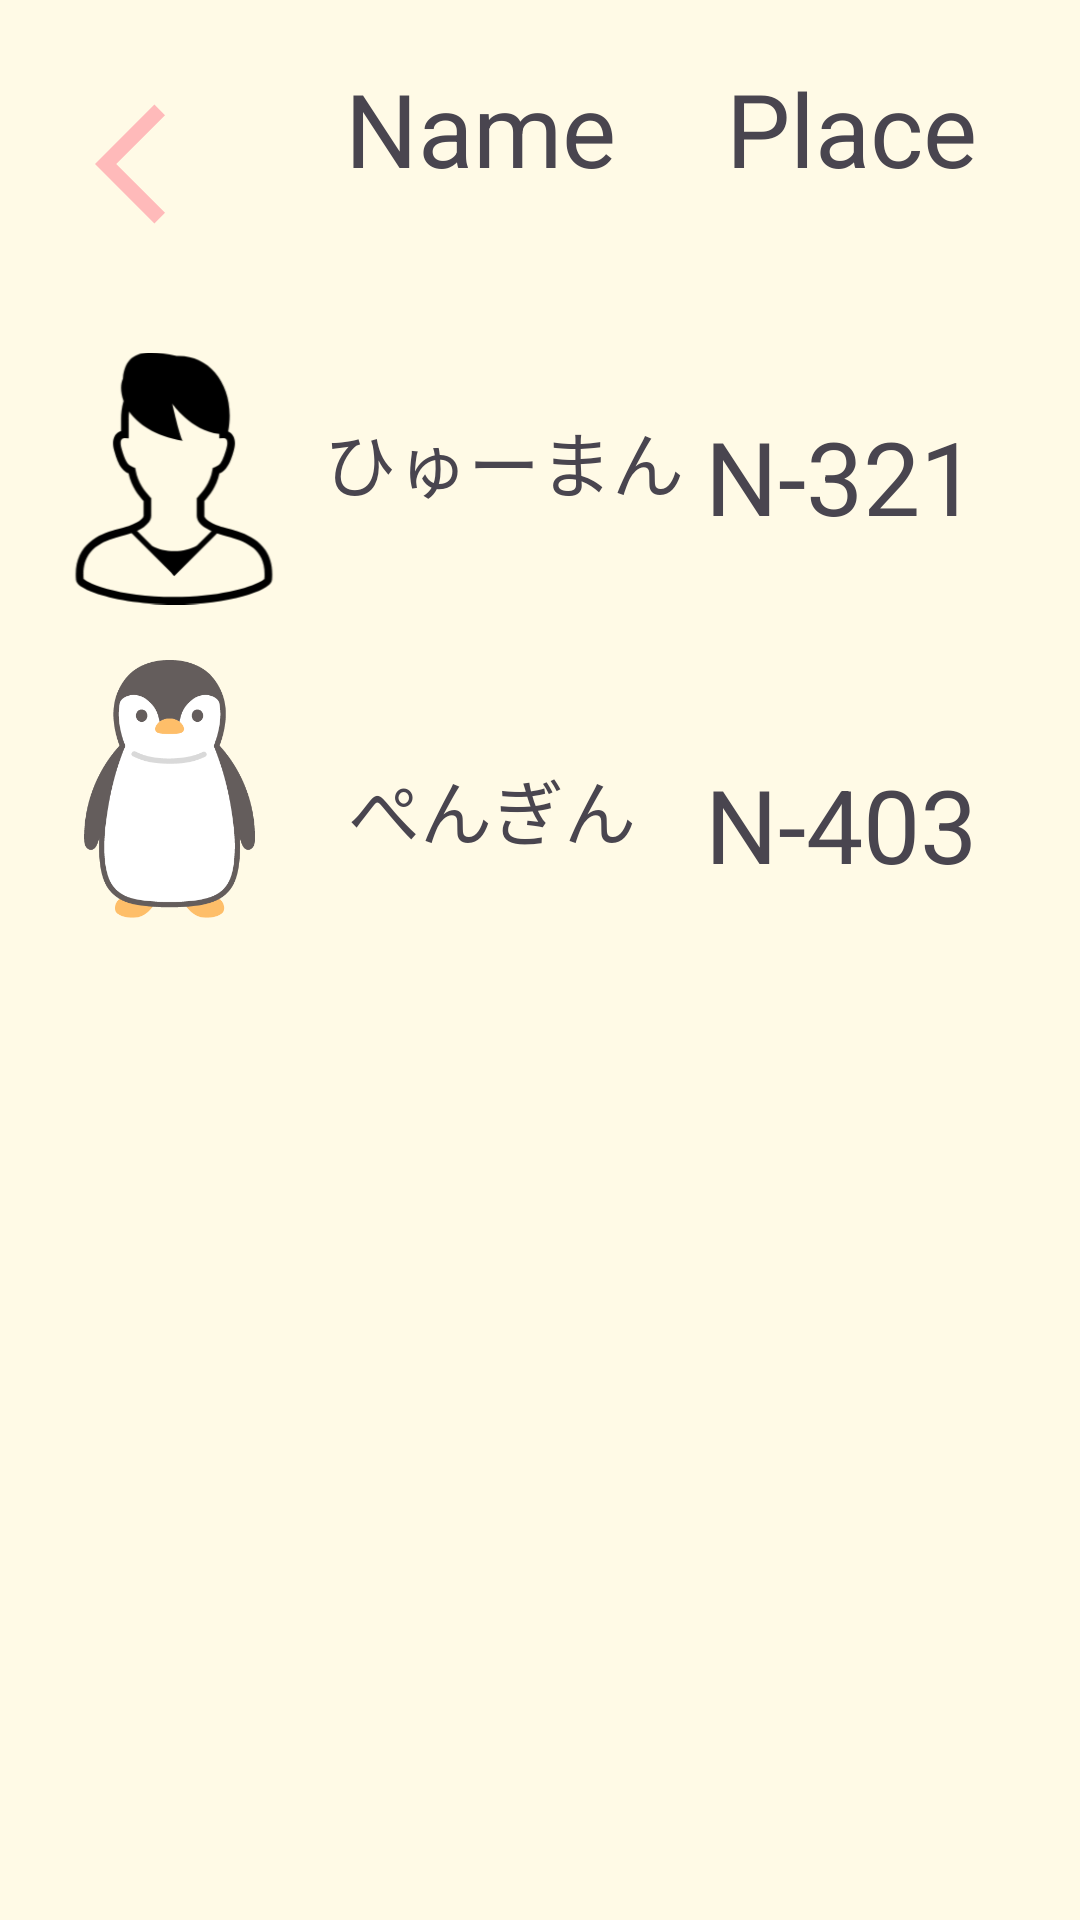

Screen size 1080px×1920px. Icon name, then its box in pixels as (x1, y1, x2, y2):
man: (75, 353, 273, 605)
penguin: (84, 660, 255, 918)
このボタンは戻るボタンの仮置きです: (95, 105, 165, 223)
